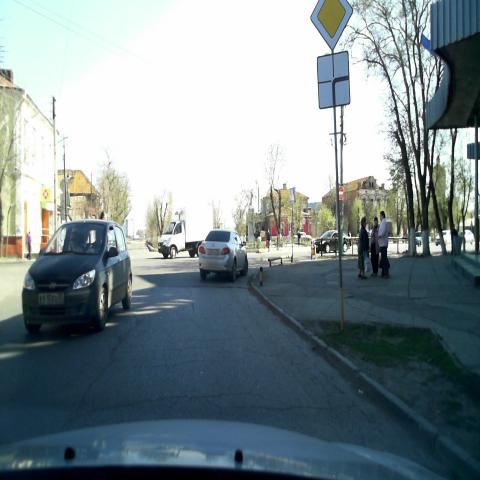2_1: (311, 0, 352, 50)
